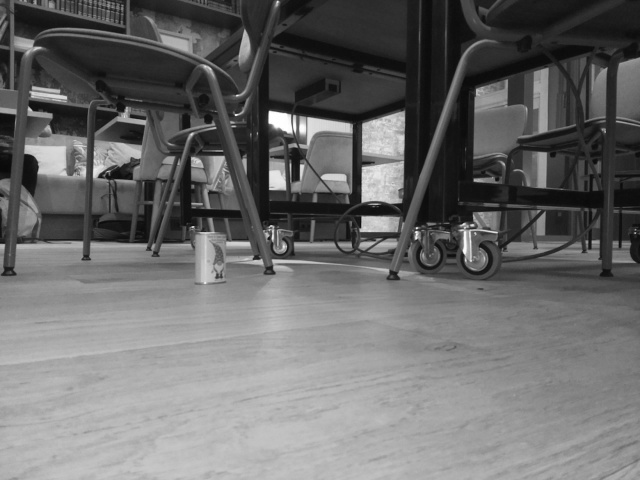gnome: (205, 238, 227, 282)
